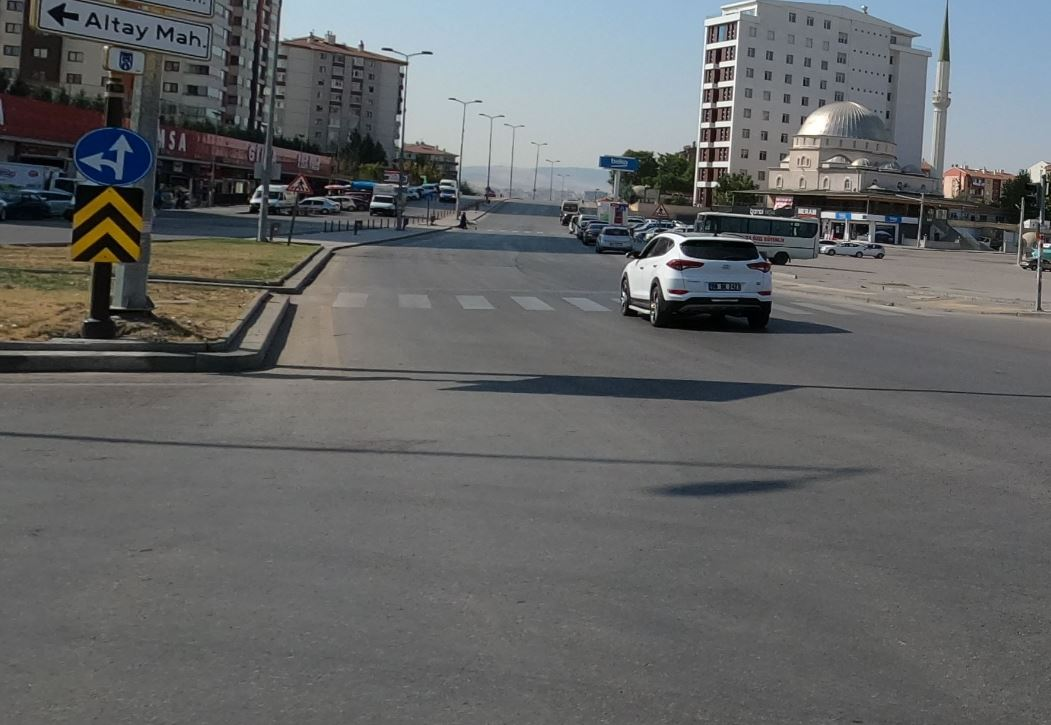ileri ve Sola Mecburi Don: (72, 122, 160, 191)
